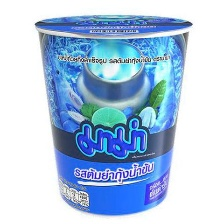paper_cup: (29, 10, 197, 219)
